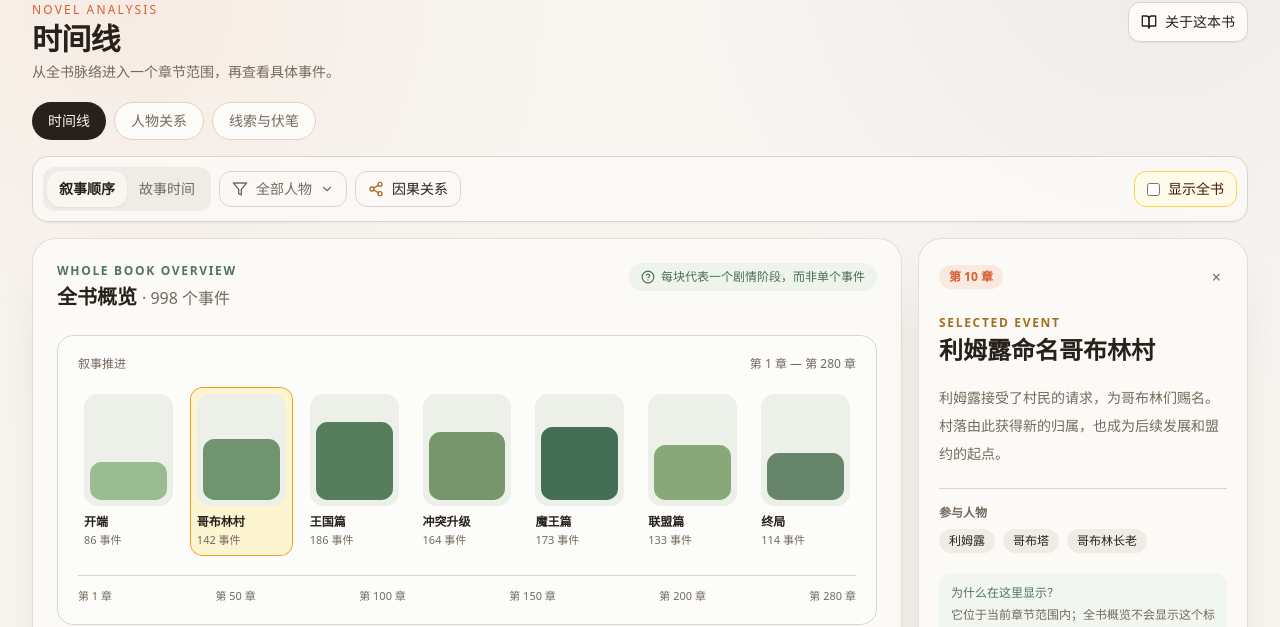
Scenario: TimelinePrototypePage › 点击剧情阶段进入下钻详情
This screenshot has width=1280, height=627.
Click the button "王国篇 186 事件" at (354, 471), box [304,388,405,554]
(page scrolled)
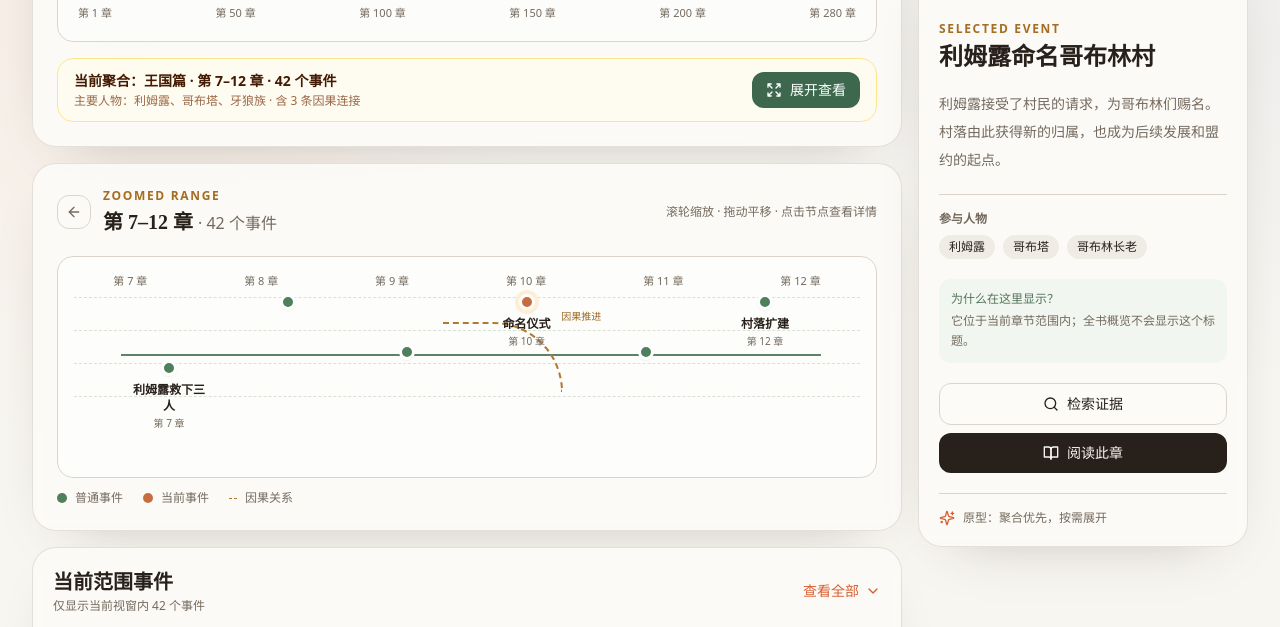
Expected: the heading "第 7–12 章 · 42 个事件" is shown, [103,208,277,236]
Expected: the text "利姆露救下三人" is shown, [129,382,209,414]
Expected: the text "命名仪式" is shown, [503,316,551,332]
